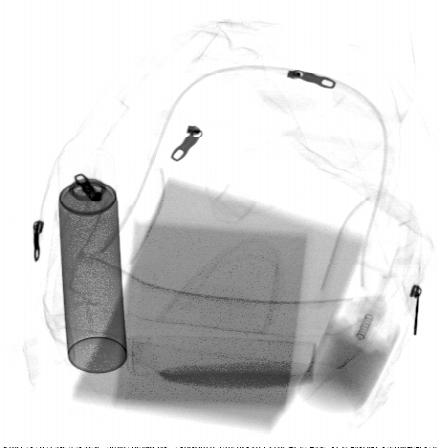Sprayer: (57, 143, 129, 375)
